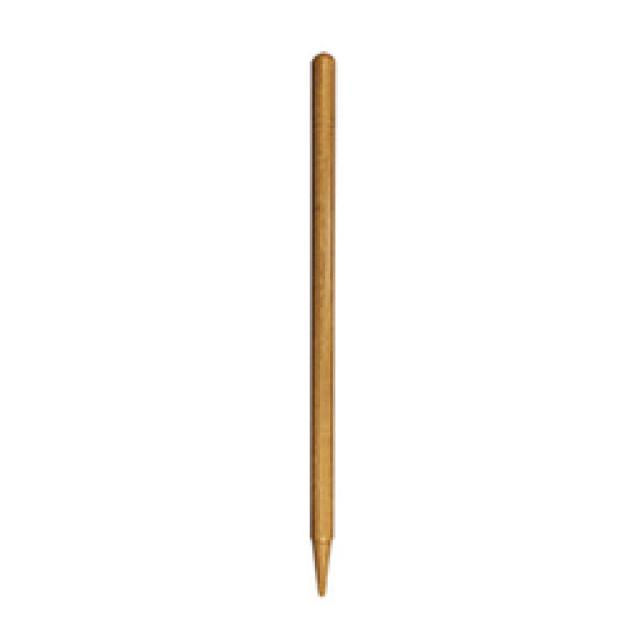stump: (306, 52, 338, 594)
